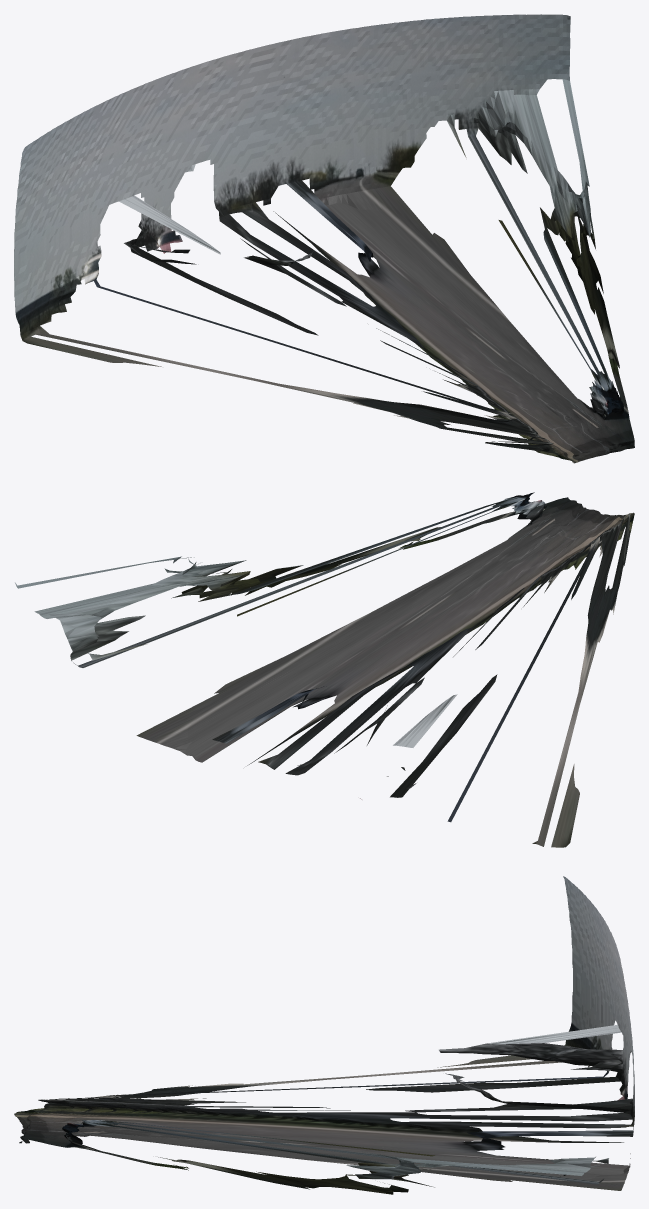
3 renders of one model, top to bottom at view 1: azimuth 30°, elevation 25°; view 2: azimuth 150°, elevation 25°; view 3: azimuth 270°, elevation 25°, orthographic. The views are drawn at different scales.
Visible parts, largest first — view 1: defaultobject; view 2: defaultobject; view 3: defaultobject.
Boxes of the visible parts, bbox=[...] form: defaultobject: bbox=[14, 14, 634, 463]; defaultobject: bbox=[15, 492, 634, 847]; defaultobject: bbox=[14, 876, 634, 1194].
Size of the model in its own units: 41.06 by 14.66 by 44.71.
Materials: 1 (1 with a texture image).
